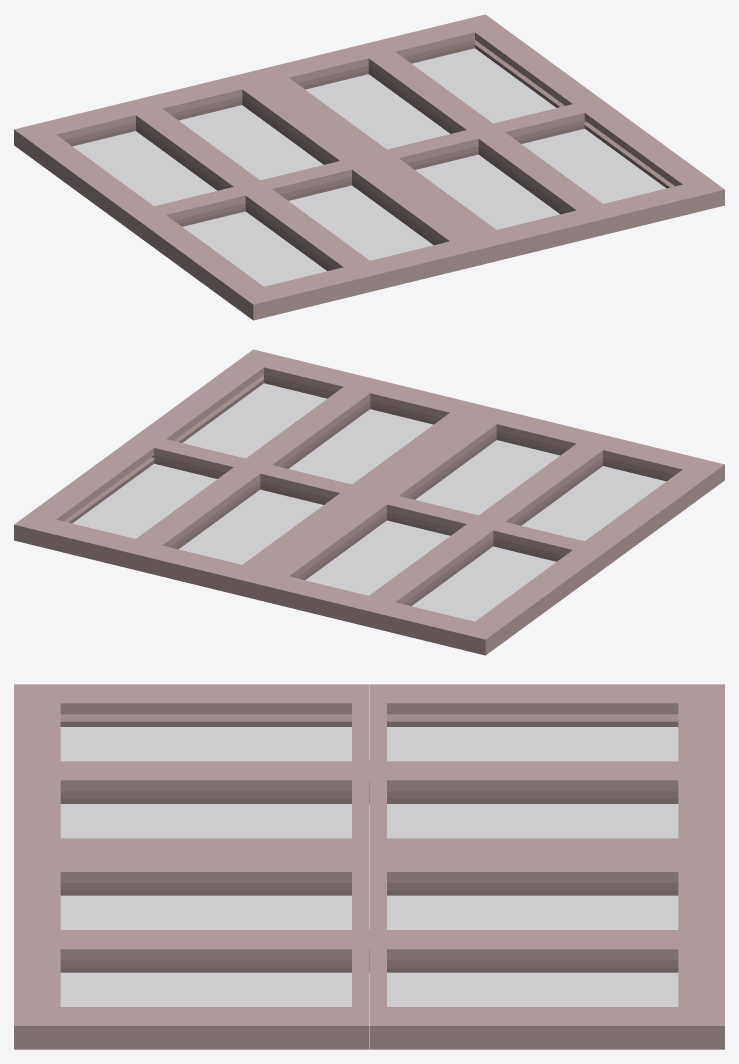
File: windowswithglass.fbx
3 renders of one model, top to bottom at view 1: azimuth 30°, elevation 25°; view 2: azimuth 150°, elevation 25°; view 3: azimuth 270°, elevation 25°, orthographic. The views are drawn at different scales.
Parts seen in each view (by area): view 1: polySurface9, polySurface7; view 2: polySurface9, polySurface7; view 3: polySurface7, polySurface9.
Part boxes in pixels (left/top/right/bottom): polySurface9: left=14, top=72, right=489, bottom=320; polySurface7: left=250, top=14, right=724, bottom=262; polySurface9: left=249, top=407, right=724, bottom=655; polySurface7: left=14, top=349, right=488, bottom=597; polySurface7: left=14, top=855, right=724, bottom=1049; polySurface9: left=14, top=684, right=724, bottom=855.
Bounding box in the file's own units: 13.99 × 0.4501 × 12.3.
